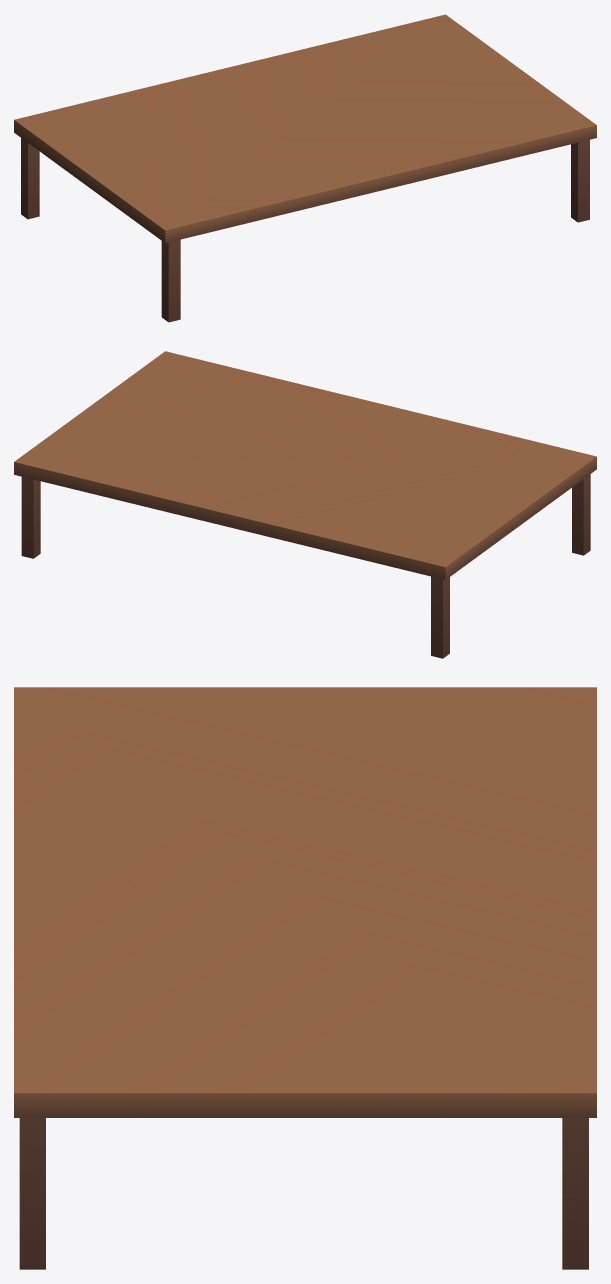
File: M_table_rectangle.FBX
3 views of the same model, one above another, from view 1: azimuth 30°, elevation 25°; view 2: azimuth 150°, elevation 25°; view 3: azimuth 270°, elevation 25° (orthographic). The views are drawn at different scales.
Parts seen in each view (by area): view 1: Box001; view 2: Box001; view 3: Box001.
Part boxes in pixels (x1=…): Box001: x1=14, y1=14, x2=596, y2=322; Box001: x1=14, y1=351, x2=596, y2=658; Box001: x1=14, y1=687, x2=596, y2=1269.
Size of the model in its own units: 327 by 198 by 68.17.
